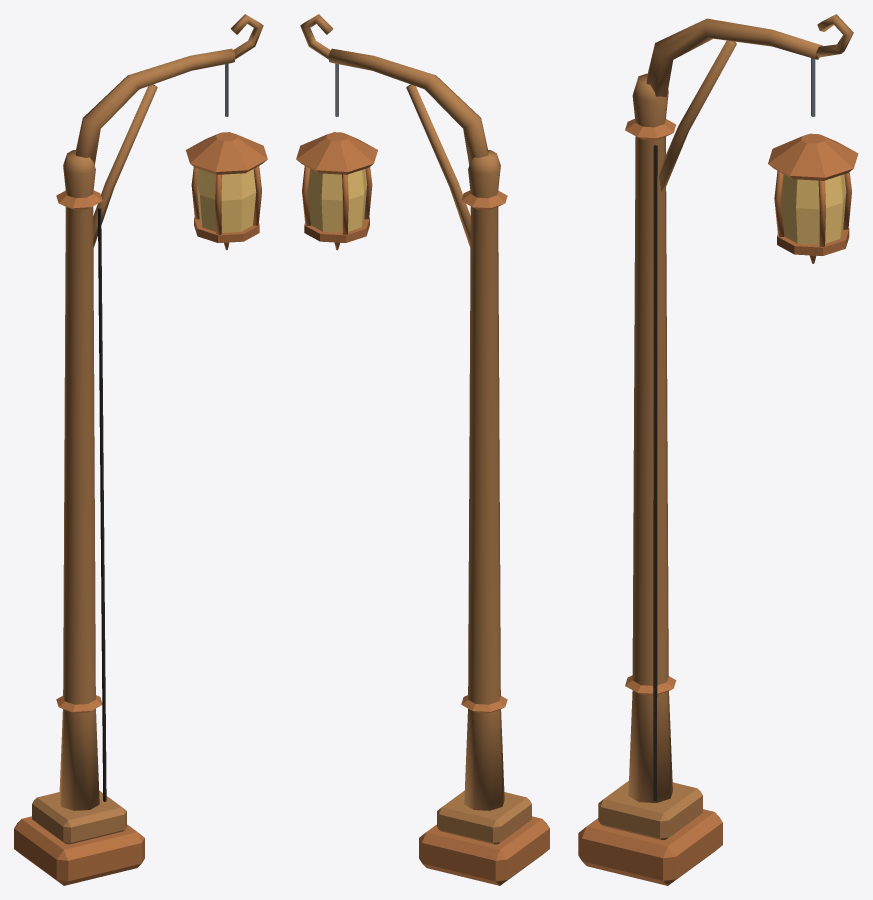
File: Lantern_Hanging.fbx
The picture shows the model from 3 angles, left to right: view 1: azimuth 30°, elevation 25°; view 2: azimuth 150°, elevation 25°; view 3: azimuth 330°, elevation 25°; orthographic projection. The views are drawn at different scales.
Visible parts, largest first — view 1: Post, Lamp, Lines; view 2: Post, Lamp; view 3: Post, Lamp, Lines.
Boxes of the visible parts, x1,y1,x2,y2 form: Post: (14, 14, 263, 885); Lamp: (186, 63, 267, 250); Lines: (98, 208, 106, 801); Post: (300, 14, 549, 885); Lamp: (296, 63, 377, 250); Post: (578, 14, 853, 885); Lamp: (768, 58, 858, 263); Lines: (653, 145, 657, 800).
Size of the model in its own units: 0.93 by 3.13 by 0.36.
